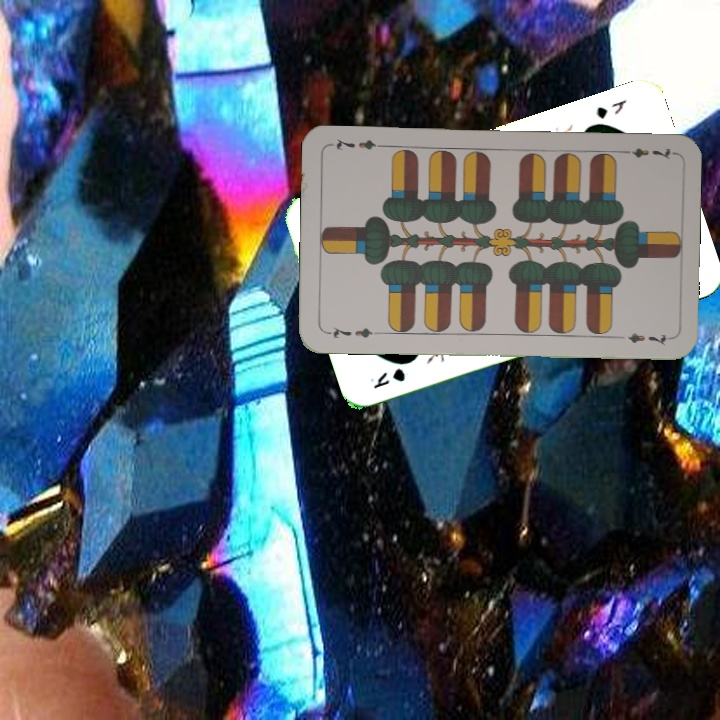E7: (323, 322, 382, 341), (616, 144, 672, 162)
GK: (370, 364, 408, 392), (592, 95, 630, 122)
